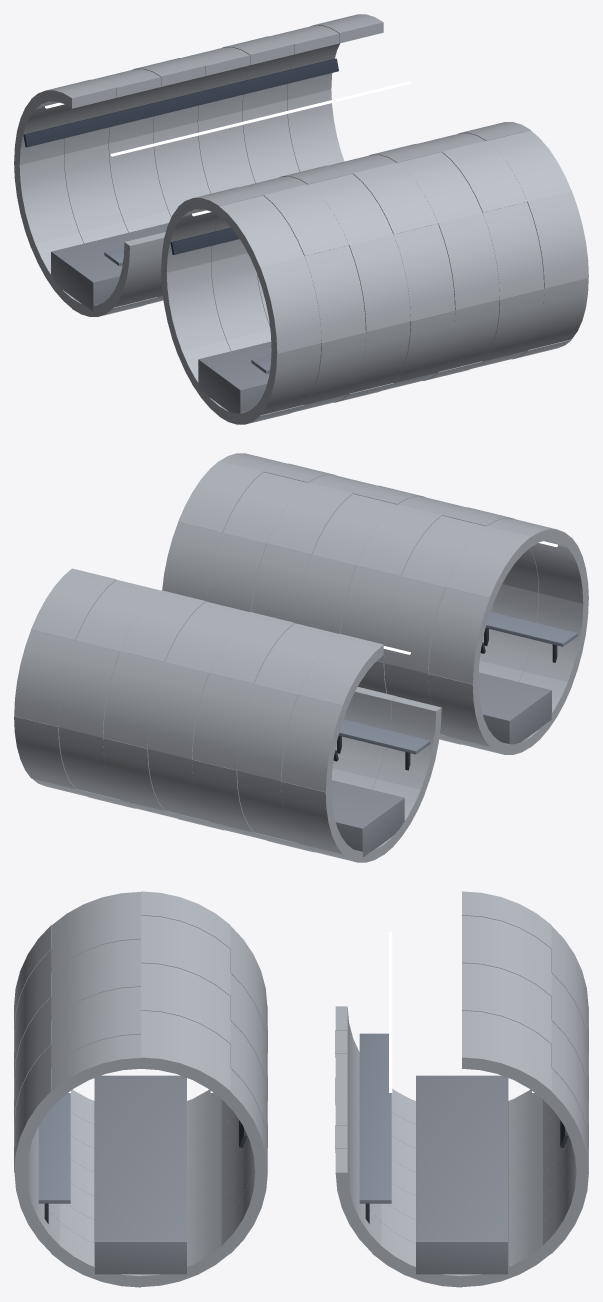
The model's file is tunnel.glb.
The picture shows the model from 3 angles, top to bottom: view 1: azimuth 30°, elevation 25°; view 2: azimuth 150°, elevation 25°; view 3: azimuth 270°, elevation 25°; orthographic projection. The views are drawn at different scales.
Parts seen in each view (by area): view 1: Tunnel_Full, Tunnel_Cut; view 2: Tunnel_Cut, Tunnel_Full; view 3: Tunnel_Full, Tunnel_Cut.
Boxes of the visible parts, <box> form: Tunnel_Full: <box>161,122,588,424</box>; Tunnel_Cut: <box>14,14,411,316</box>; Tunnel_Cut: <box>14,568,441,862</box>; Tunnel_Full: <box>162,453,588,754</box>; Tunnel_Full: <box>14,891,267,1287</box>; Tunnel_Cut: <box>335,891,588,1287</box>.
Size of the model in its own units: 9.8 by 6.32 by 14.32.
